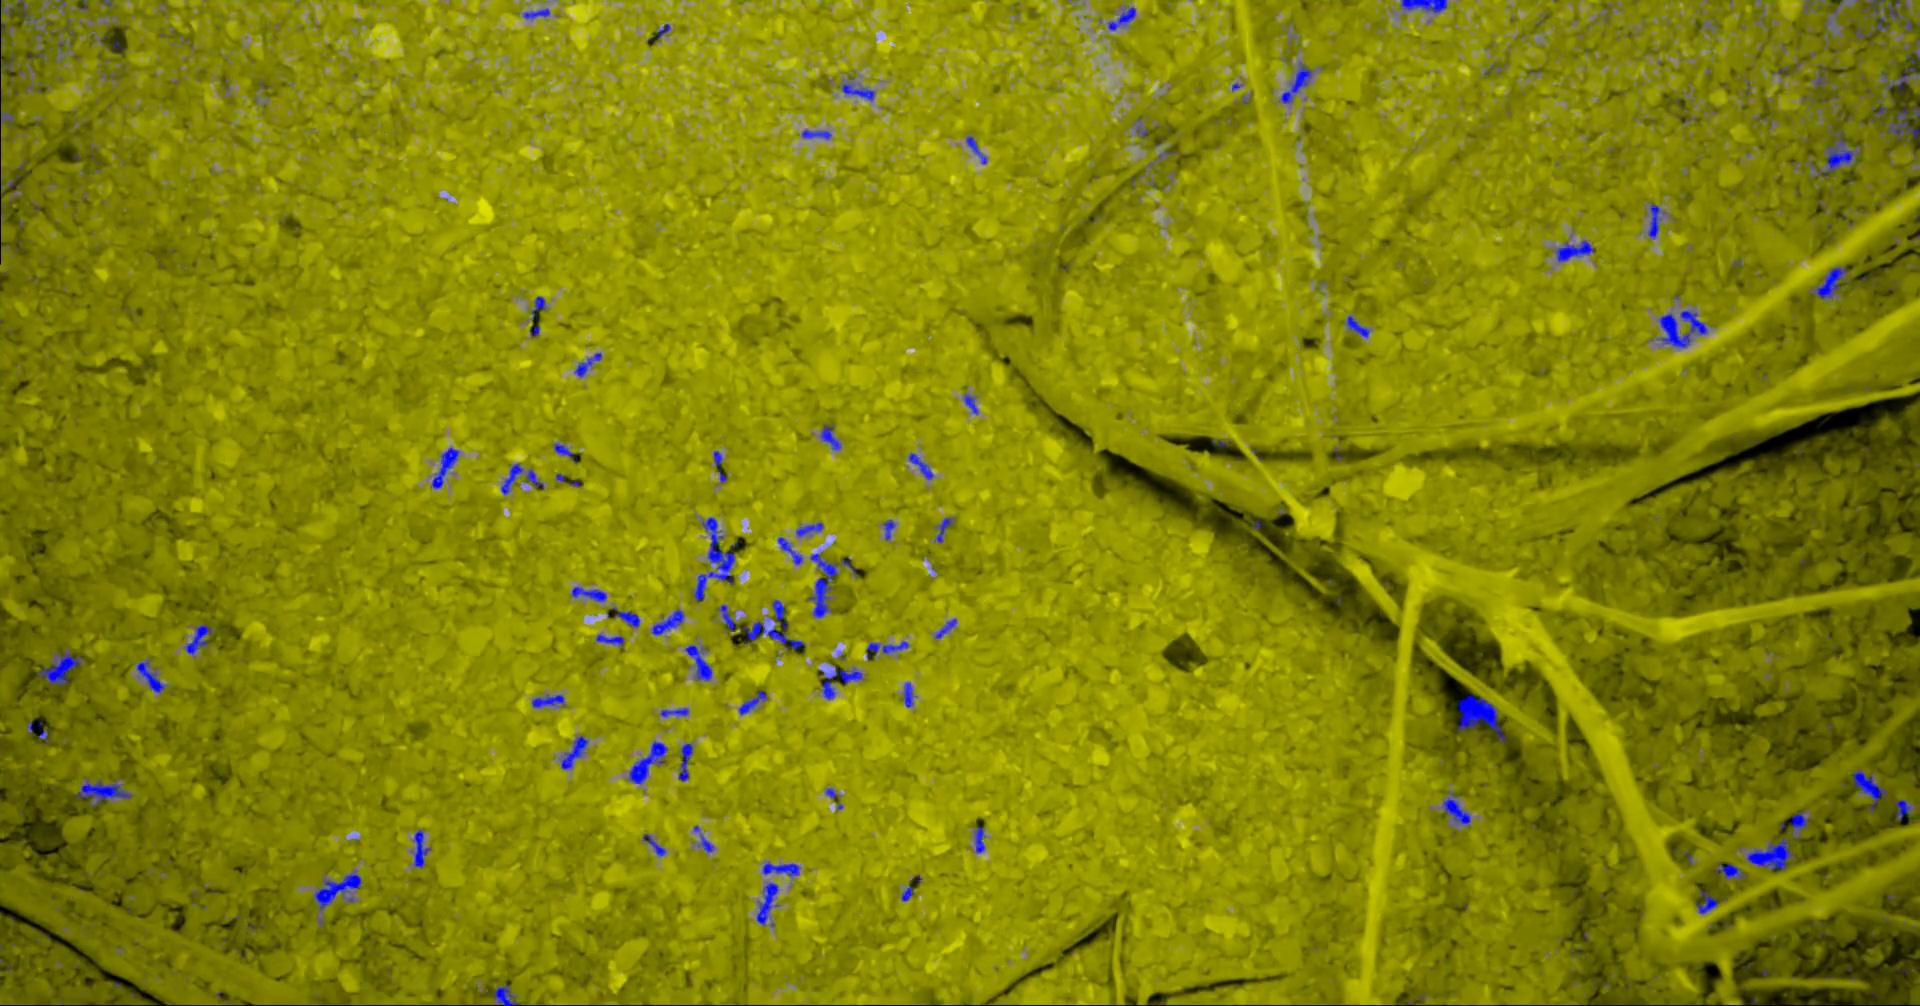ant: (743, 600, 803, 649), (1811, 124, 1857, 177), (1457, 694, 1505, 741), (1655, 310, 1707, 347), (808, 553, 836, 617), (1879, 50, 1919, 95), (312, 873, 361, 909), (1862, 0, 1919, 30), (629, 741, 667, 784), (1746, 837, 1794, 870), (75, 779, 131, 807), (1851, 768, 1887, 812), (36, 652, 81, 685), (500, 464, 543, 494), (1879, 105, 1919, 138), (1280, 62, 1312, 103), (822, 668, 863, 699), (1808, 265, 1846, 298), (430, 447, 458, 488), (184, 622, 215, 655), (136, 659, 166, 692), (756, 882, 778, 925), (1443, 791, 1470, 826), (684, 644, 711, 680), (560, 735, 587, 768), (651, 608, 684, 634), (1556, 239, 1594, 260), (411, 829, 430, 868), (777, 536, 803, 564), (738, 690, 767, 714), (908, 452, 933, 479), (1107, 6, 1135, 30), (573, 352, 601, 376), (866, 641, 908, 657), (1790, 809, 1811, 838), (841, 83, 874, 100), (11, 0, 36, 24), (678, 743, 693, 781), (762, 861, 800, 876), (965, 135, 985, 163), (1647, 203, 1663, 238), (1399, 0, 1448, 11), (1695, 889, 1718, 913), (612, 607, 639, 627), (571, 586, 606, 601), (643, 833, 665, 856), (1345, 315, 1369, 337), (820, 424, 841, 450), (493, 984, 518, 1005), (935, 517, 954, 542), (1716, 862, 1745, 879), (531, 694, 564, 708), (552, 443, 577, 462), (712, 450, 726, 481), (717, 605, 734, 631), (935, 619, 956, 638), (1895, 798, 1911, 821), (795, 522, 822, 536), (596, 633, 623, 645), (902, 682, 916, 708), (1869, 102, 1887, 121), (531, 296, 545, 320), (963, 392, 978, 414), (697, 832, 712, 852), (0, 52, 14, 72), (974, 826, 984, 854), (522, 8, 549, 18), (801, 130, 830, 138), (883, 520, 895, 540), (660, 708, 688, 716), (0, 111, 14, 127), (1855, 27, 1872, 38), (902, 885, 912, 901)
